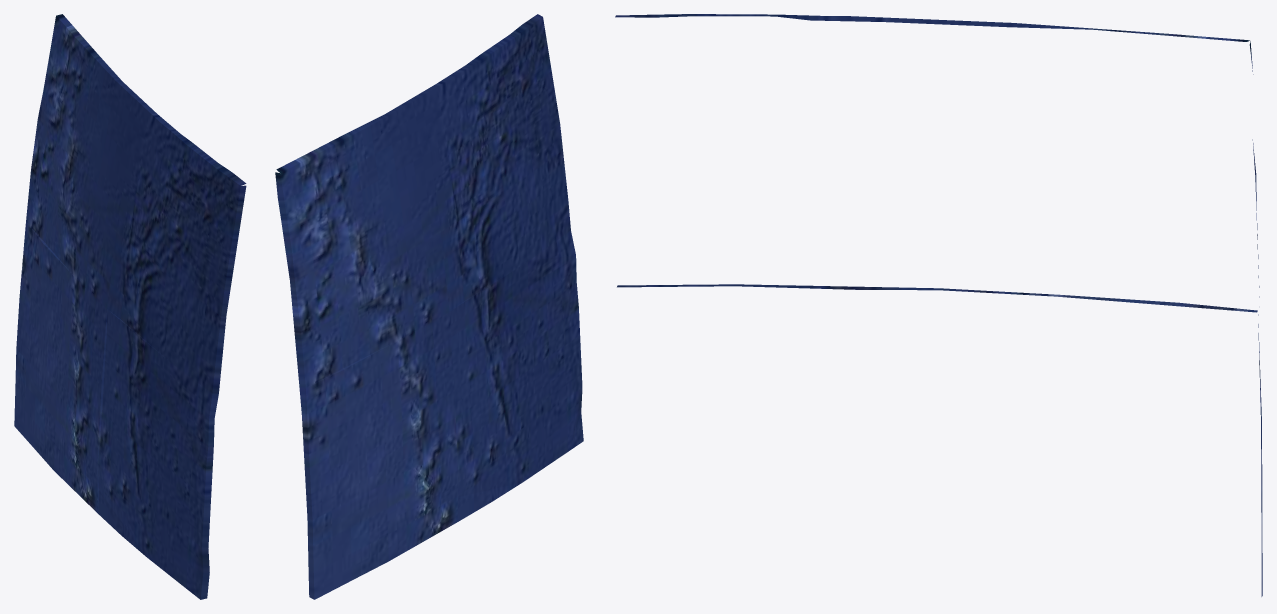
3 renders of one model, left to right at view 1: azimuth 30°, elevation 25°; view 2: azimuth 150°, elevation 25°; view 3: azimuth 270°, elevation 25°, orthographic. The views are drawn at different scales.
Size of the model in its own units: 260623 by 1252820 by 1257936.
Materials: 1 (1 with a texture image).
